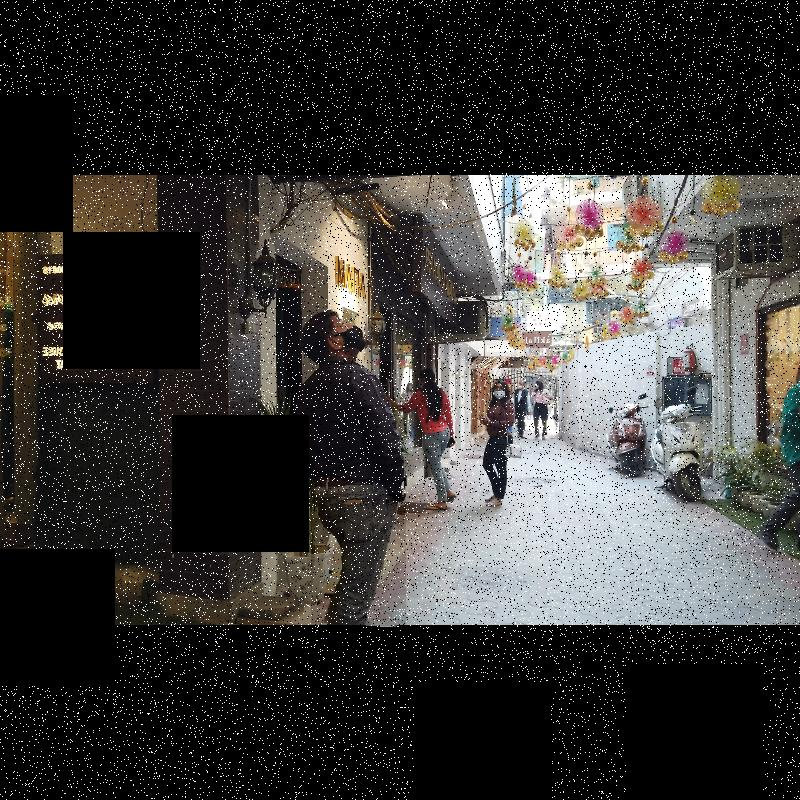Jeans: (311, 471, 405, 626)
Shirt: (287, 362, 403, 494)
